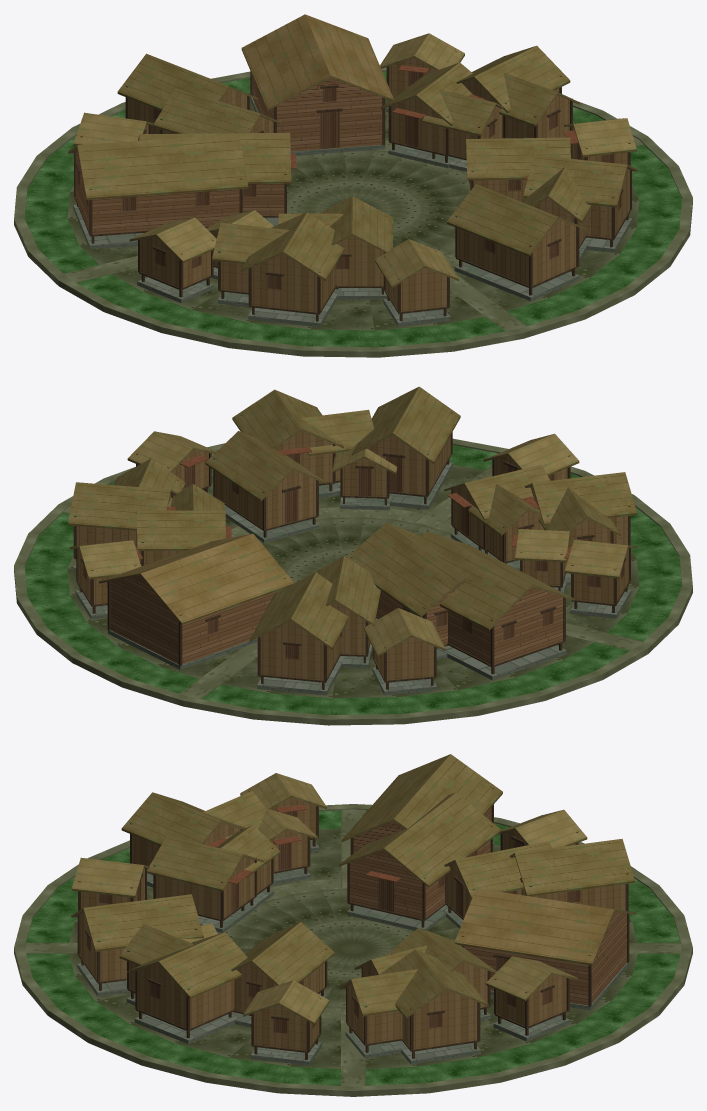
The model's file is ae_jungle_village_small_lod1.glb.
3 renders of one model, top to bottom at view 1: azimuth 30°, elevation 25°; view 2: azimuth 150°, elevation 25°; view 3: azimuth 270°, elevation 25°, orthographic.
Parts seen in each view (by area): view 1: ae_jungle_village_small_lod1; view 2: ae_jungle_village_small_lod1; view 3: ae_jungle_village_small_lod1.
Boxes of the visible parts, x1,y1,x2,y2 form: ae_jungle_village_small_lod1: (14,14,692,357); ae_jungle_village_small_lod1: (14,386,692,725); ae_jungle_village_small_lod1: (14,754,692,1096).
Size of the model in its own units: 1.9 by 0.2738 by 1.9.
1 material, 1 textured.
